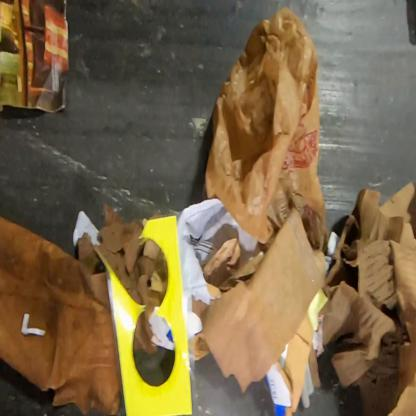cardboard: (192, 206, 328, 394), (318, 179, 415, 415), (76, 200, 168, 357), (265, 309, 323, 415)
soft_plastic: (204, 5, 331, 256), (104, 212, 198, 416)
